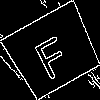F: (27, 26, 74, 82)
